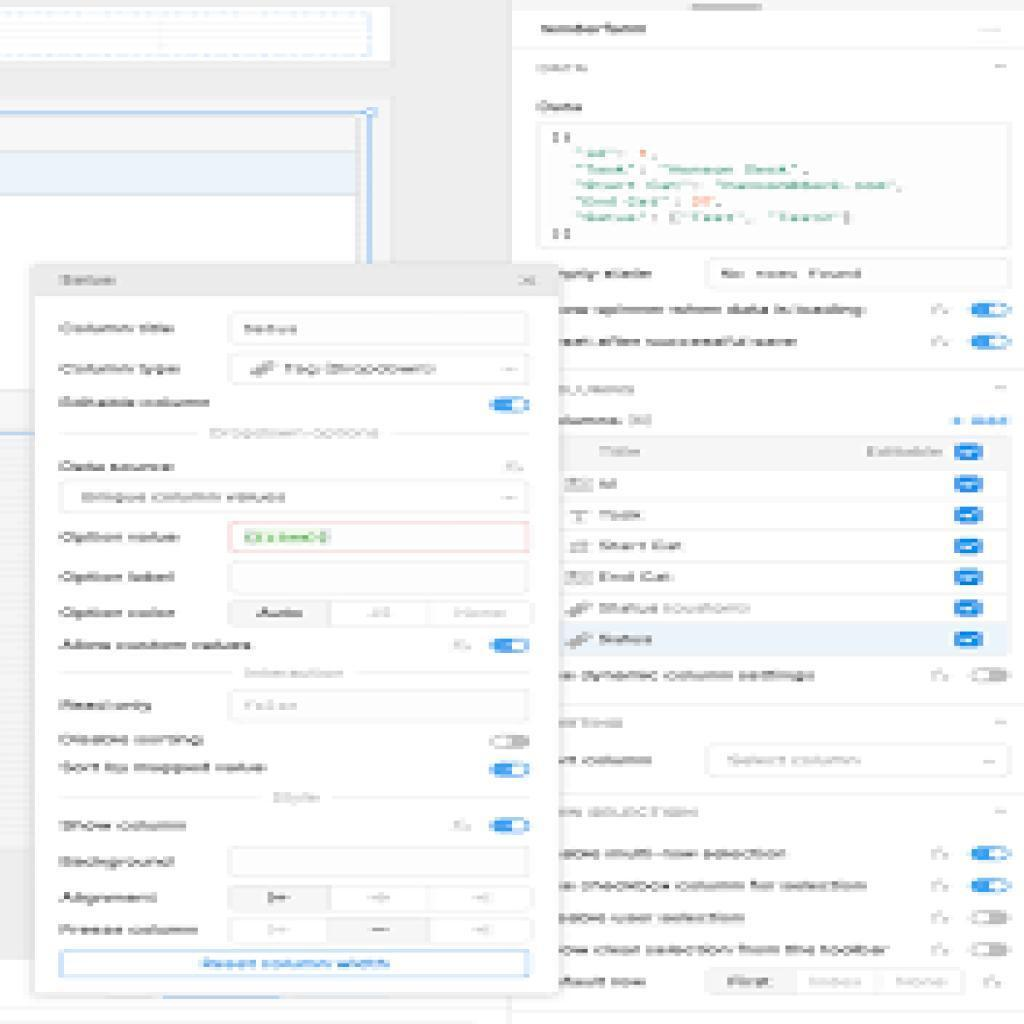button: (59, 948, 532, 981)
checkbox: (954, 440, 987, 464), (951, 630, 985, 653), (952, 536, 986, 558), (953, 506, 987, 527), (954, 597, 985, 620), (953, 566, 985, 588), (953, 473, 986, 494)
dropdown: (705, 742, 1013, 781), (226, 353, 533, 388)
input: (228, 310, 532, 349), (227, 689, 531, 726), (705, 257, 1014, 292), (226, 562, 532, 596), (227, 846, 531, 880), (227, 521, 530, 555)
switch: (485, 730, 532, 756), (487, 814, 534, 840), (969, 845, 1015, 868), (484, 760, 533, 781), (969, 666, 1014, 688), (487, 636, 535, 656), (488, 396, 533, 417), (970, 875, 1015, 896), (970, 334, 1016, 354), (971, 302, 1016, 322), (971, 909, 1013, 927), (971, 942, 1014, 959)
